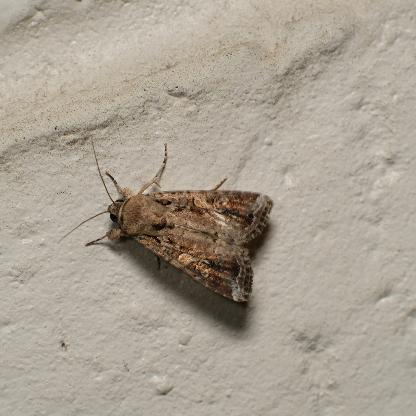Fall Armyworm Moth: (56, 135, 276, 305)
